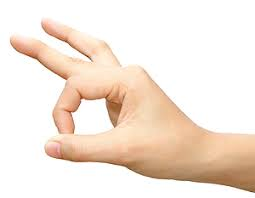OK: (2, 10, 214, 192)
